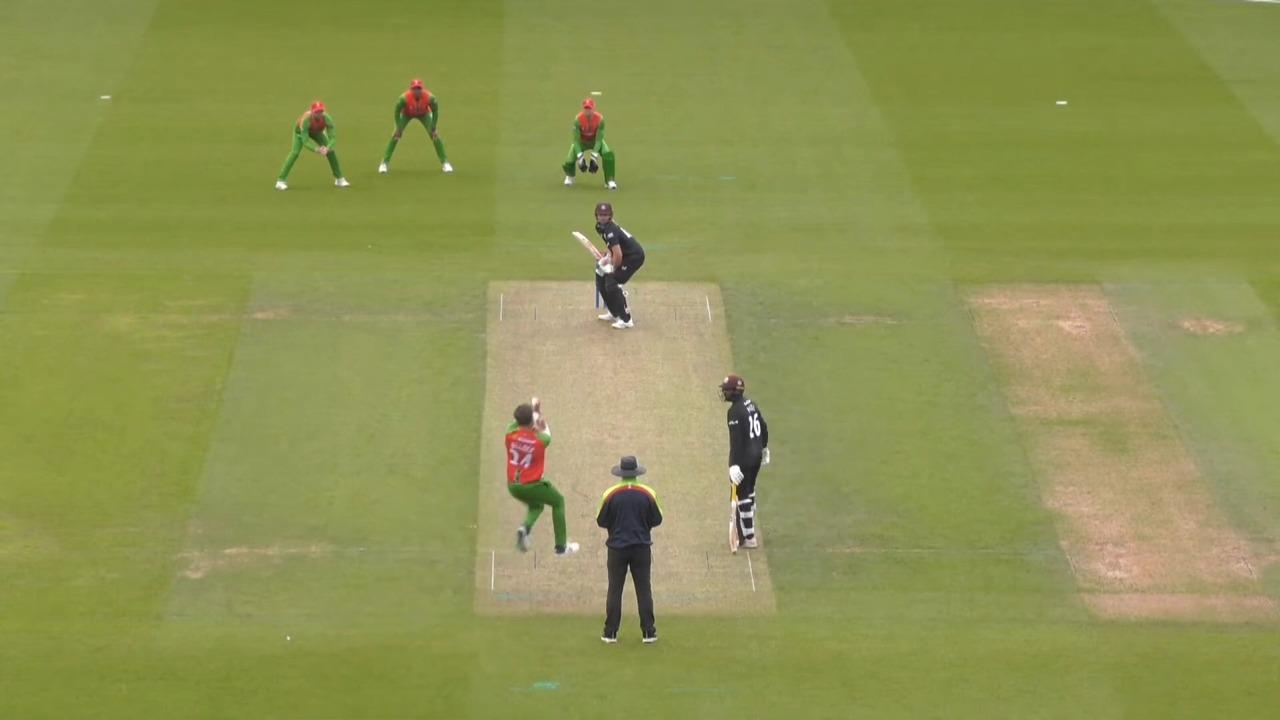sports ball: (532, 398, 538, 405)
